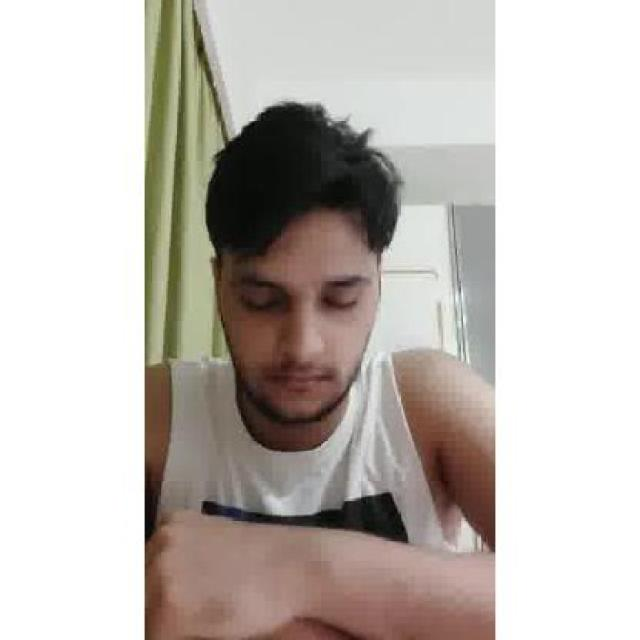inattentif: (203, 97, 382, 429)
